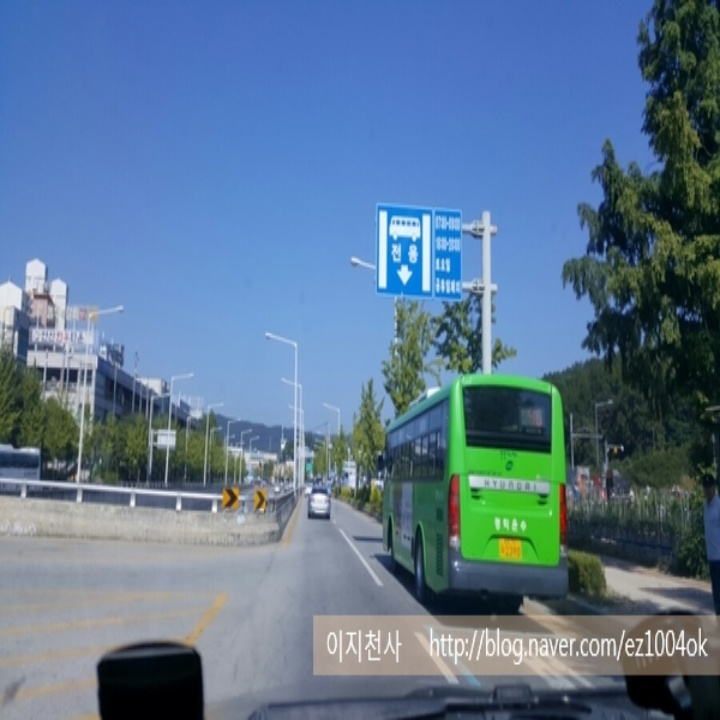bus: (385, 213, 425, 243)
